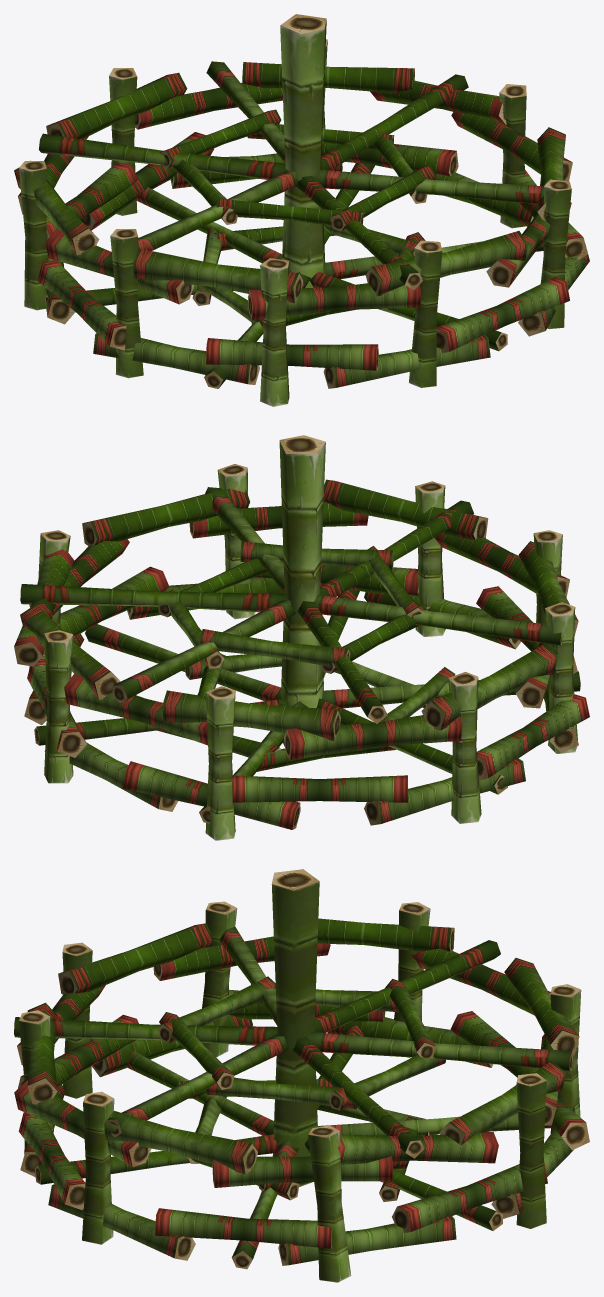
File: environment_Building_diaojiaolou_001_f.FBX
3 views of the same model, one above another, from view 1: azimuth 30°, elevation 25°; view 2: azimuth 150°, elevation 25°; view 3: azimuth 270°, elevation 25° (orthographic). The views are drawn at different scales.
Visible parts, largest first — view 1: environment_Building_diaojiaolou_001_f1, environment_Building_diaojiaolou_001_f2; view 2: environment_Building_diaojiaolou_001_f1, environment_Building_diaojiaolou_001_f2; view 3: environment_Building_diaojiaolou_001_f1, environment_Building_diaojiaolou_001_f2.
Boxes of the visible parts, <box> form: environment_Building_diaojiaolou_001_f1: <box>14,61,589,387</box>; environment_Building_diaojiaolou_001_f2: <box>18,14,587,406</box>; environment_Building_diaojiaolou_001_f1: <box>14,479,589,829</box>; environment_Building_diaojiaolou_001_f2: <box>14,435,578,840</box>; environment_Building_diaojiaolou_001_f1: <box>14,918,585,1265</box>; environment_Building_diaojiaolou_001_f2: <box>17,869,589,1282</box>.
Bounding box in the file's own units: 1286 × 1251 × 715.
2 materials, 2 textured.
